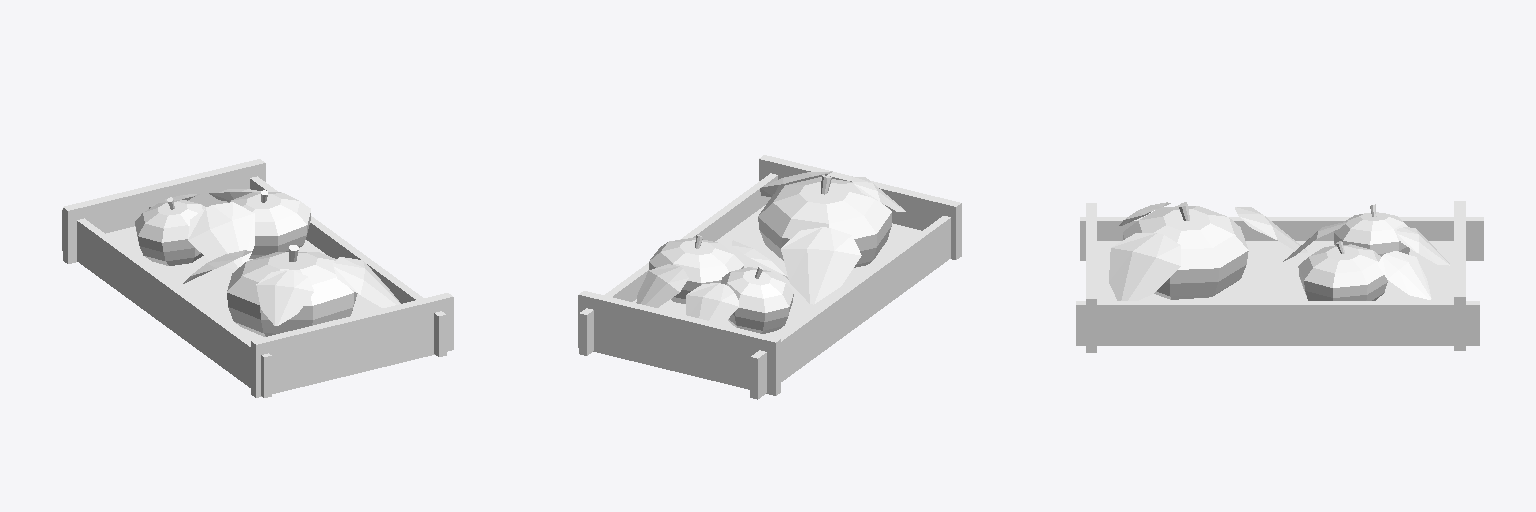
Rendered from ogrod_warzywny.obj.
3 views of the same model, side by side, from view 1: azimuth 30°, elevation 25°; view 2: azimuth 150°, elevation 25°; view 3: azimuth 270°, elevation 25° (orthographic).
Parts seen in each view (by area): view 1: ogrod_warzywny; view 2: ogrod_warzywny; view 3: ogrod_warzywny.
Part boxes in pixels (x1,y1,x2,y2): ogrod_warzywny: (62, 159, 453, 397); ogrod_warzywny: (578, 155, 961, 399); ogrod_warzywny: (1076, 201, 1483, 352).
Bounding box in the file's own units: 171 × 77.66 × 301.